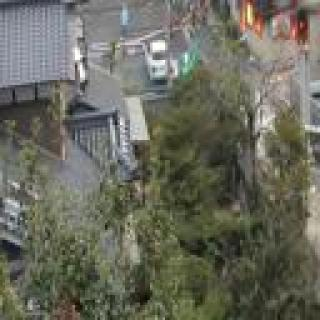fire: (236, 0, 299, 44)
